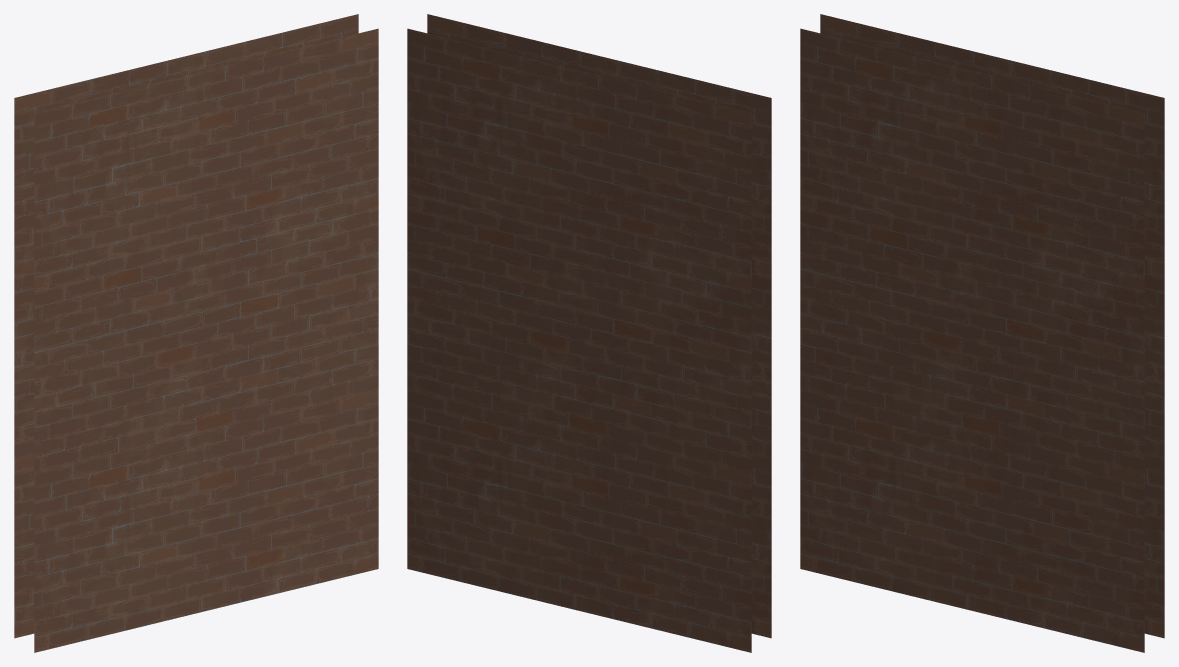
The model's file is q-downtown-brick-plain-3-nowear.glb.
3 views of the same model, side by side, from view 1: azimuth 30°, elevation 25°; view 2: azimuth 150°, elevation 25°; view 3: azimuth 330°, elevation 25° (orthographic).
Visible parts, largest first — view 1: Brick_Plain_3_noWear; view 2: Brick_Plain_3_noWear; view 3: Brick_Plain_3_noWear.
Part boxes in pixels (x1,y1,x2,y2): Brick_Plain_3_noWear: (14, 14, 378, 652); Brick_Plain_3_noWear: (407, 14, 771, 652); Brick_Plain_3_noWear: (800, 14, 1164, 652).
Bounding box in the file's own units: 2 × 3 × 0.2.
2 materials, 2 textured.
